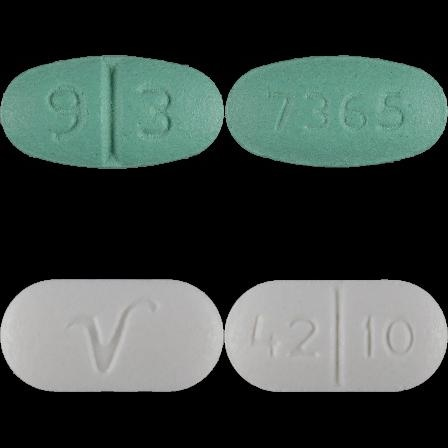61786-820: (0, 0, 224, 224)
